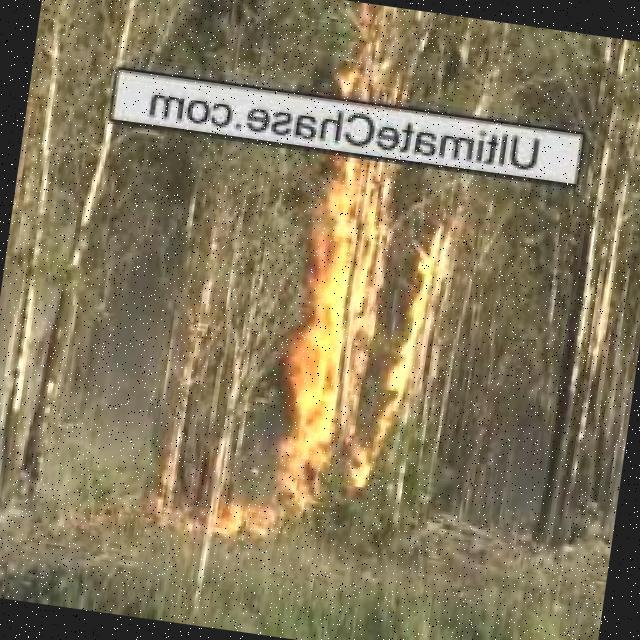Fire: (266, 149, 459, 503), (344, 16, 416, 103), (213, 499, 279, 543)
